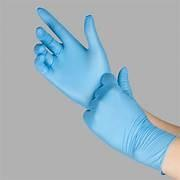Glove: (84, 68, 174, 169), (34, 8, 109, 106)
